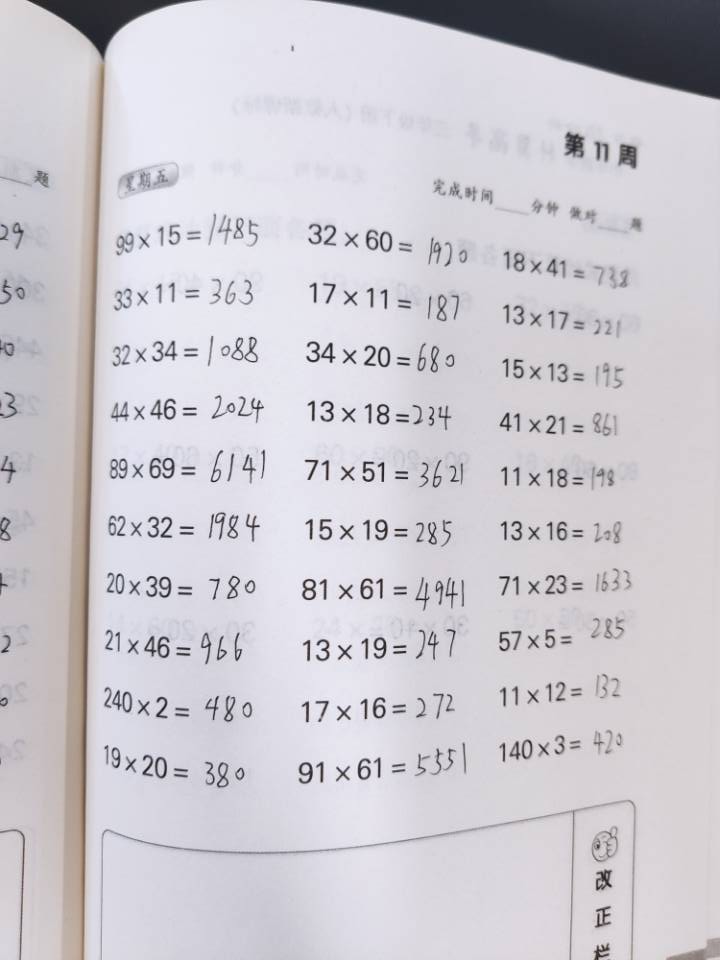equation: (157, 309, 202, 555), (422, 325, 462, 569), (296, 72, 336, 316), (262, 75, 302, 319), (225, 69, 265, 313), (378, 83, 418, 327), (340, 72, 380, 316), (377, 588, 417, 832), (287, 580, 327, 824), (244, 572, 284, 816), (540, 75, 580, 319), (501, 76, 541, 320), (458, 67, 498, 311), (512, 337, 552, 581), (467, 328, 507, 572), (554, 331, 594, 575), (464, 587, 504, 831), (416, 75, 455, 319), (332, 581, 371, 825), (553, 608, 592, 852), (506, 589, 545, 833), (421, 589, 460, 833), (207, 332, 247, 555), (377, 337, 417, 560), (334, 336, 374, 559), (248, 339, 288, 561), (290, 343, 330, 565), (202, 596, 241, 819), (157, 595, 196, 817), (178, 103, 222, 299)
